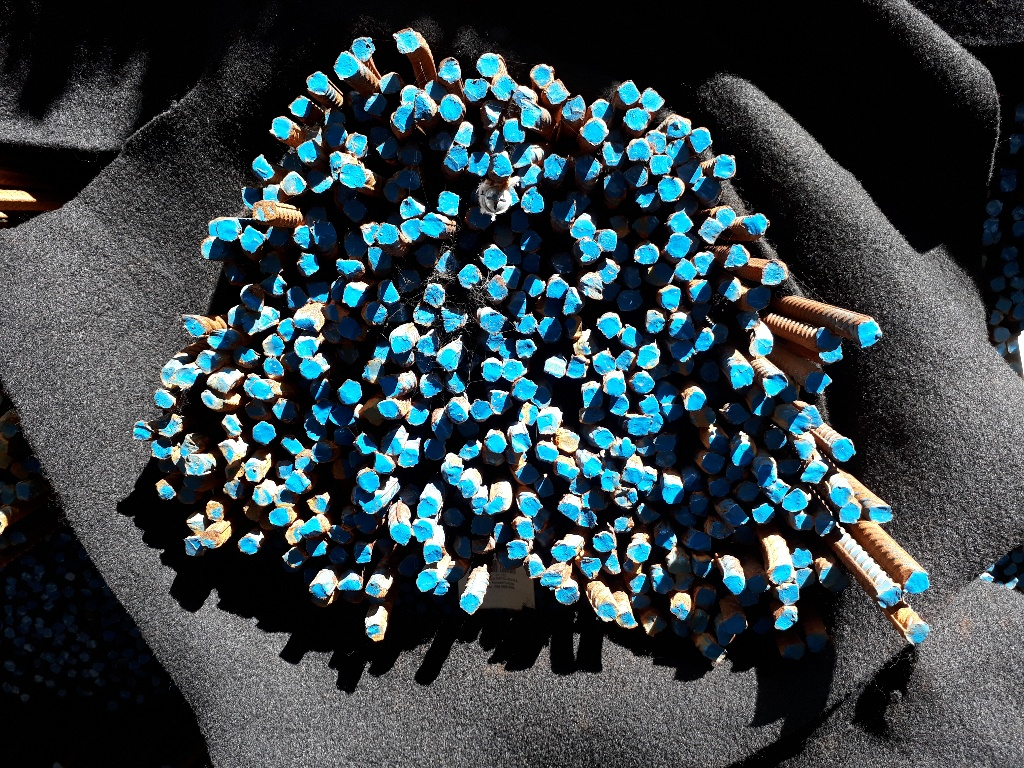dipstick: (483, 185, 519, 214), (294, 306, 324, 333), (310, 220, 336, 251), (208, 217, 239, 243), (541, 152, 568, 181), (333, 50, 359, 80), (665, 546, 692, 574), (573, 237, 602, 263), (691, 177, 721, 202), (580, 120, 610, 145), (518, 98, 541, 130), (724, 243, 751, 270), (342, 281, 369, 308), (569, 215, 597, 241), (420, 212, 446, 240), (440, 307, 468, 333), (665, 210, 694, 235), (578, 271, 603, 300), (239, 283, 264, 312), (293, 516, 323, 540), (697, 217, 723, 244), (443, 146, 470, 172), (781, 488, 809, 513), (665, 138, 693, 163), (664, 233, 692, 258), (596, 257, 621, 285), (239, 225, 264, 253), (560, 286, 583, 316), (639, 86, 665, 112), (692, 250, 718, 276), (641, 611, 667, 637), (487, 389, 513, 415), (806, 370, 833, 395), (601, 171, 628, 196), (575, 154, 600, 181), (497, 544, 524, 569), (250, 155, 275, 182), (721, 503, 749, 527), (654, 522, 678, 550), (520, 186, 544, 214), (537, 315, 561, 343), (339, 164, 367, 188), (618, 78, 641, 107), (622, 107, 651, 130), (669, 591, 692, 620), (857, 321, 882, 347), (728, 364, 754, 389), (597, 313, 623, 338), (591, 349, 616, 375), (601, 371, 627, 396), (544, 79, 570, 104), (549, 248, 574, 274), (492, 74, 517, 100), (437, 96, 463, 121), (393, 29, 419, 54), (413, 302, 439, 327), (271, 398, 297, 423), (657, 176, 681, 203), (632, 217, 659, 241), (562, 95, 586, 122), (492, 220, 516, 247), (511, 377, 538, 401), (419, 372, 443, 399), (344, 230, 368, 257), (280, 171, 307, 195), (687, 490, 710, 518), (438, 57, 461, 85), (414, 91, 437, 119), (635, 343, 660, 368), (551, 198, 576, 223), (529, 63, 554, 88), (516, 163, 541, 188), (251, 420, 276, 445), (903, 570, 929, 594), (689, 128, 713, 154), (630, 183, 656, 207), (566, 353, 590, 379), (307, 169, 333, 193), (501, 359, 528, 382), (392, 106, 415, 133), (360, 398, 383, 425), (156, 415, 183, 438), (259, 275, 288, 296), (192, 237, 224, 256), (730, 443, 755, 467), (670, 338, 695, 362), (617, 324, 642, 348), (502, 117, 526, 142), (366, 246, 391, 270), (256, 306, 280, 331), (303, 416, 327, 441), (764, 426, 787, 452), (761, 373, 787, 396), (713, 153, 736, 179), (668, 317, 694, 340), (654, 381, 680, 404), (610, 435, 636, 458), (458, 263, 481, 289), (400, 196, 426, 219), (800, 462, 827, 484), (675, 162, 702, 184), (454, 121, 476, 148), (394, 169, 421, 191), (334, 259, 365, 278), (602, 142, 626, 166), (637, 503, 661, 527), (521, 273, 545, 297), (489, 153, 513, 177), (259, 251, 283, 275), (816, 327, 841, 350), (830, 437, 855, 460), (786, 413, 811, 436), (876, 585, 901, 608), (750, 502, 775, 525), (674, 504, 697, 529), (599, 549, 622, 574), (467, 151, 490, 176), (415, 243, 438, 268), (373, 221, 398, 244), (362, 359, 385, 384), (339, 379, 362, 404), (352, 38, 375, 63), (322, 124, 347, 147), (309, 379, 332, 404), (284, 471, 309, 494), (617, 291, 643, 313), (554, 585, 580, 607), (352, 433, 378, 455), (353, 512, 379, 534), (233, 345, 259, 367), (690, 406, 717, 427), (480, 312, 507, 333), (328, 406, 355, 427), (790, 437, 814, 460), (830, 485, 854, 508), (666, 114, 690, 137), (674, 257, 697, 281), (463, 78, 487, 101), (377, 280, 400, 304), (337, 317, 361, 340), (342, 200, 366, 223), (253, 200, 276, 224), (297, 253, 320, 277), (181, 314, 205, 337), (174, 367, 197, 391), (273, 485, 297, 508), (905, 622, 930, 644), (761, 260, 783, 285), (742, 213, 767, 235), (766, 563, 791, 585), (631, 369, 653, 394), (721, 612, 746, 634), (580, 556, 602, 581), (437, 190, 459, 215), (423, 283, 445, 308), (345, 132, 367, 157), (184, 454, 209, 476), (633, 244, 659, 265), (554, 457, 580, 478), (554, 431, 580, 452), (486, 273, 507, 299), (284, 519, 304, 546), (628, 572, 651, 595), (468, 206, 491, 229), (476, 53, 499, 76), (372, 450, 395, 473), (297, 140, 320, 163), (306, 281, 329, 304), (262, 334, 285, 357), (222, 414, 245, 437), (818, 565, 842, 587), (767, 480, 791, 502), (626, 140, 650, 162), (737, 481, 761, 503), (567, 189, 591, 211), (614, 485, 638, 507), (517, 402, 539, 426), (470, 513, 494, 535), (483, 248, 507, 270), (416, 333, 438, 357), (398, 270, 422, 292), (309, 442, 333, 464), (364, 93, 386, 117), (309, 403, 333, 425), (814, 511, 835, 536), (725, 403, 750, 424), (660, 287, 681, 312), (649, 264, 674, 285), (610, 213, 631, 238), (689, 610, 710, 635), (285, 285, 306, 310), (217, 440, 238, 465), (694, 326, 714, 352), (581, 490, 607, 510), (207, 329, 233, 349), (625, 417, 652, 436), (508, 290, 527, 317), (182, 474, 209, 493), (589, 99, 612, 121), (627, 541, 650, 563), (543, 355, 565, 378), (520, 496, 543, 518), (375, 137, 398, 159), (436, 348, 459, 370), (445, 401, 468, 423), (306, 71, 328, 94), (224, 263, 246, 286), (751, 394, 775, 415), (648, 153, 672, 174), (572, 332, 596, 353), (484, 99, 505, 123), (384, 178, 405, 202), (355, 471, 379, 492), (270, 117, 291, 141), (293, 336, 317, 357), (298, 358, 322, 379), (207, 373, 231, 394), (868, 504, 893, 524), (551, 542, 576, 562), (514, 463, 539, 483), (405, 406, 430, 426), (276, 317, 296, 342), (683, 467, 702, 493), (790, 546, 812, 568), (750, 336, 772, 358), (689, 281, 711, 303), (581, 386, 603, 408), (546, 278, 568, 300), (515, 312, 537, 334), (436, 252, 458, 274), (470, 399, 492, 421), (432, 418, 454, 440), (424, 438, 446, 460), (411, 520, 433, 542), (415, 570, 437, 592), (365, 302, 387, 324), (360, 493, 382, 515), (196, 352, 218, 374), (715, 206, 736, 229), (675, 193, 698, 214), (718, 280, 741, 301), (702, 452, 725, 473), (596, 229, 617, 252), (557, 501, 580, 522), (511, 145, 532, 168), (518, 232, 541, 253), (441, 465, 464, 486), (481, 359, 502, 382), (400, 218, 421, 241), (389, 523, 410, 546), (379, 376, 402, 397), (790, 511, 814, 531), (707, 519, 731, 539), (623, 167, 647, 187), (687, 531, 711, 551), (616, 348, 636, 372), (591, 531, 615, 551), (535, 442, 559, 462), (487, 128, 507, 152), (180, 434, 199, 459), (838, 502, 860, 523), (537, 413, 558, 435), (509, 209, 530, 231), (459, 594, 481, 615), (417, 497, 438, 519), (398, 483, 420, 504), (386, 301, 408, 322), (263, 358, 284, 380), (133, 421, 155, 442), (151, 439, 173, 460), (294, 450, 316, 471), (251, 485, 272, 507), (155, 479, 176, 501), (747, 287, 770, 307), (721, 574, 744, 594), (707, 477, 730, 497), (640, 413, 663, 433), (532, 384, 552, 407), (505, 540, 528, 560), (472, 534, 495, 554), (500, 266, 520, 289), (359, 222, 379, 245), (378, 74, 401, 94), (288, 98, 311, 118), (265, 226, 288, 246), (244, 400, 267, 420), (736, 311, 760, 330), (646, 130, 665, 154), (774, 609, 798, 628), (622, 266, 641, 290), (569, 476, 593, 495), (530, 509, 549, 533), (398, 557, 422, 576), (376, 400, 400, 419), (326, 524, 350, 543), (241, 186, 260, 210), (819, 345, 844, 363), (757, 462, 775, 487), (662, 483, 683, 504), (636, 470, 657, 491), (608, 394, 629, 415), (484, 495, 505, 516), (372, 343, 393, 364), (282, 548, 303, 569), (332, 459, 353, 480), (337, 342, 358, 363), (802, 404, 822, 426), (778, 585, 800, 605), (705, 642, 727, 662), (593, 429, 615, 449), (600, 470, 620, 492), (616, 610, 638, 630), (515, 338, 537, 358), (390, 334, 412, 354), (381, 437, 403, 457), (252, 379, 272, 401), (223, 478, 243, 500), (243, 500, 263, 522), (206, 500, 226, 522), (237, 535, 259, 555), (806, 631, 829, 650), (708, 435, 731, 454), (200, 391, 223, 410), (280, 435, 303, 454), (244, 460, 263, 483), (268, 507, 291, 526), (453, 535, 471, 559), (306, 496, 330, 514), (776, 458, 801, 475), (700, 362, 720, 383), (692, 559, 713, 579), (653, 574, 673, 595), (597, 602, 617, 623), (522, 252, 542, 273), (511, 432, 532, 452), (523, 559, 544, 579), (443, 508, 464, 528), (459, 440, 479, 461), (485, 433, 505, 454), (445, 372, 465, 393), (353, 543, 373, 564), (334, 427, 354, 448), (199, 530, 220, 550), (795, 569, 817, 588), (610, 241, 629, 263), (638, 396, 660, 415), (582, 458, 604, 477), (503, 244, 522, 266), (430, 131, 452, 150), (400, 144, 422, 163), (292, 226, 311, 248), (160, 364, 176, 390), (653, 435, 677, 452), (580, 407, 604, 424), (684, 392, 704, 412), (659, 406, 684, 422), (456, 478, 476, 498), (186, 513, 206, 533), (830, 574, 851, 593), (563, 315, 582, 336), (494, 522, 513, 543), (309, 581, 330, 600), (305, 538, 326, 557), (225, 460, 246, 479), (783, 641, 805, 659), (635, 436, 653, 458), (693, 588, 715, 606), (717, 625, 735, 647), (483, 448, 505, 466), (393, 349, 415, 367), (654, 451, 677, 468), (540, 572, 563, 589), (743, 414, 763, 433), (669, 617, 688, 637), (515, 520, 534, 540), (397, 448, 417, 467), (327, 545, 347, 564), (326, 303, 346, 322), (155, 390, 175, 409), (690, 303, 711, 321), (651, 361, 672, 379), (621, 466, 642, 484), (536, 476, 554, 497), (487, 331, 505, 352), (423, 543, 441, 564), (329, 152, 343, 179), (330, 277, 345, 302), (745, 575, 767, 592), (499, 337, 516, 359), (243, 373, 260, 395), (726, 466, 749, 482), (737, 590, 760, 606), (364, 581, 387, 597), (283, 154, 302, 173), (184, 537, 203, 556), (645, 315, 665, 333), (322, 110, 346, 125), (281, 352, 299, 372), (275, 460, 293, 480), (711, 323, 728, 344), (323, 322, 340, 343), (227, 306, 244, 327), (457, 420, 479, 436), (305, 207, 327, 223), (514, 84, 539, 98), (672, 360, 695, 375), (470, 497, 488, 516), (366, 624, 385, 642), (577, 510, 597, 527), (425, 80, 445, 97), (506, 447, 527, 463), (401, 85, 417, 106), (243, 314, 259, 335), (673, 573, 692, 590), (544, 300, 563, 317), (416, 354, 435, 371), (340, 506, 357, 525), (311, 593, 334, 607), (753, 617, 773, 633), (614, 516, 634, 532), (177, 489, 197, 505), (630, 594, 651, 609), (336, 579, 362, 591), (343, 590, 365, 604), (780, 384, 798, 401), (444, 563, 462, 580), (350, 451, 367, 469), (431, 578, 448, 595), (222, 367, 242, 380), (351, 487, 364, 505), (262, 186, 279, 199)
